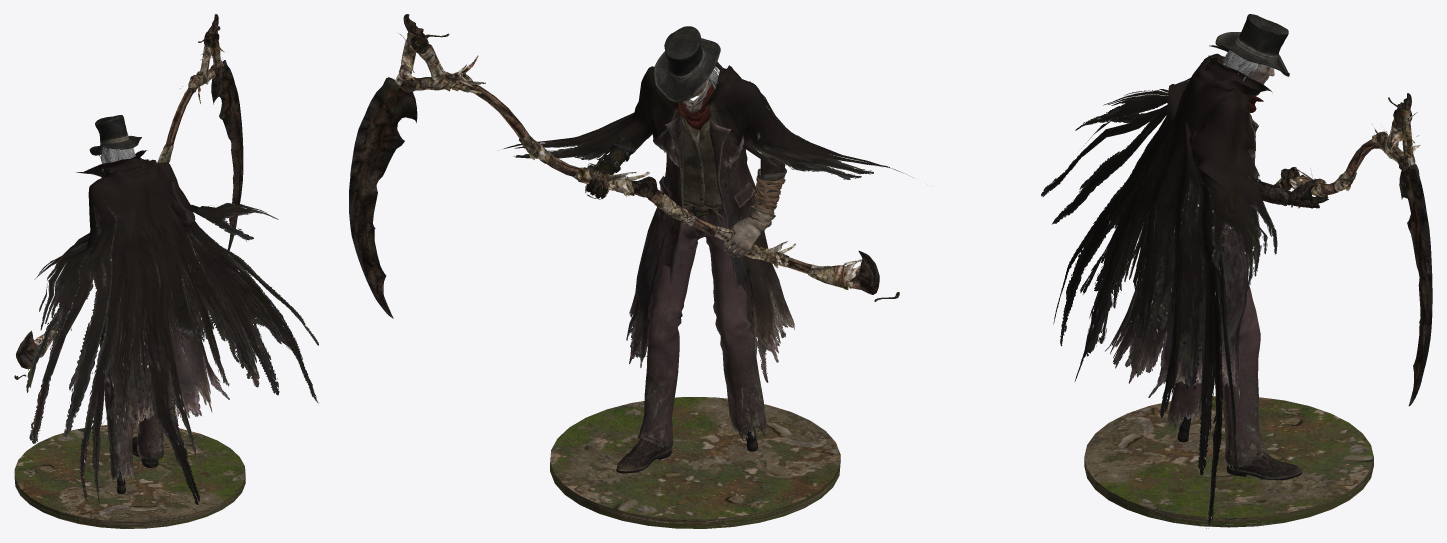
The model's file is gehrman-the-first-hunter.glb.
The picture shows the model from 3 angles, left to right: view 1: azimuth 30°, elevation 25°; view 2: azimuth 150°, elevation 25°; view 3: azimuth 270°, elevation 25°; orthographic projection. The views are drawn at different scales.
Visible parts, largest first — view 1: 98-m20_body_cloth.obj, 31-Cylinder.obj, 27-m9__01__WP_A_1021.obj, 121-m16_BD_M_6400_cloth.obj, 65-m6_20___Default.obj, 67-m17_head.obj, 88-m21_Material__42.obj; view 2: 31-Cylinder.obj, 27-m9__01__WP_A_1021.obj, 65-m6_20___Default.obj, 121-m16_BD_M_6400_cloth.obj, 98-m20_body_cloth.obj, 57-m12_BD_M_6400.obj, 67-m17_head.obj, 56-m19_arm.obj, 115-m18_Arm.obj, 70-m15_BD_M_6400_cloth.obj; view 3: 98-m20_body_cloth.obj, 31-Cylinder.obj, 65-m6_20___Default.obj, 27-m9__01__WP_A_1021.obj, 121-m16_BD_M_6400_cloth.obj, 67-m17_head.obj, 115-m18_Arm.obj, 88-m21_Material__42.obj.
Boxes of the visible parts, x1,y1,x2,y2 form: 98-m20_body_cloth.obj: (26,159,318,504); 31-Cylinder.obj: (14,424,245,528); 27-m9__01__WP_A_1021.obj: (14,14,243,379); 121-m16_BD_M_6400_cloth.obj: (100,321,229,450); 65-m6_20___Default.obj: (105,372,164,493); 67-m17_head.obj: (89,115,141,155); 88-m21_Material__42.obj: (76,150,147,177); 31-Cylinder.obj: (550,397,840,528); 27-m9__01__WP_A_1021.obj: (349,14,899,318); 65-m6_20___Default.obj: (616,202,766,473); 121-m16_BD_M_6400_cloth.obj: (626,111,794,419); 98-m20_body_cloth.obj: (503,62,914,179); 57-m12_BD_M_6400.obj: (678,76,785,209); 67-m17_head.obj: (653,26,720,102); 56-m19_arm.obj: (723,168,786,257); 115-m18_Arm.obj: (585,136,635,199); 70-m15_BD_M_6400_cloth.obj: (652,121,744,169); 98-m20_body_cloth.obj: (1041,53,1277,528); 31-Cylinder.obj: (1084,396,1373,527); 65-m6_20___Default.obj: (1166,282,1301,480); 27-m9__01__WP_A_1021.obj: (1275,93,1432,406); 121-m16_BD_M_6400_cloth.obj: (1105,114,1258,404); 67-m17_head.obj: (1215,14,1289,76); 115-m18_Arm.obj: (1247,176,1328,208); 88-m21_Material__42.obj: (1206,45,1272,95).
Size of the model in its own units: 2.59 by 2.5 by 1.91.
10 materials, 10 textured.
